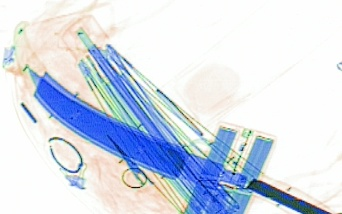knife: (13, 20, 330, 213)
powerbank: (178, 118, 278, 213)
scissors: (104, 131, 187, 211)
